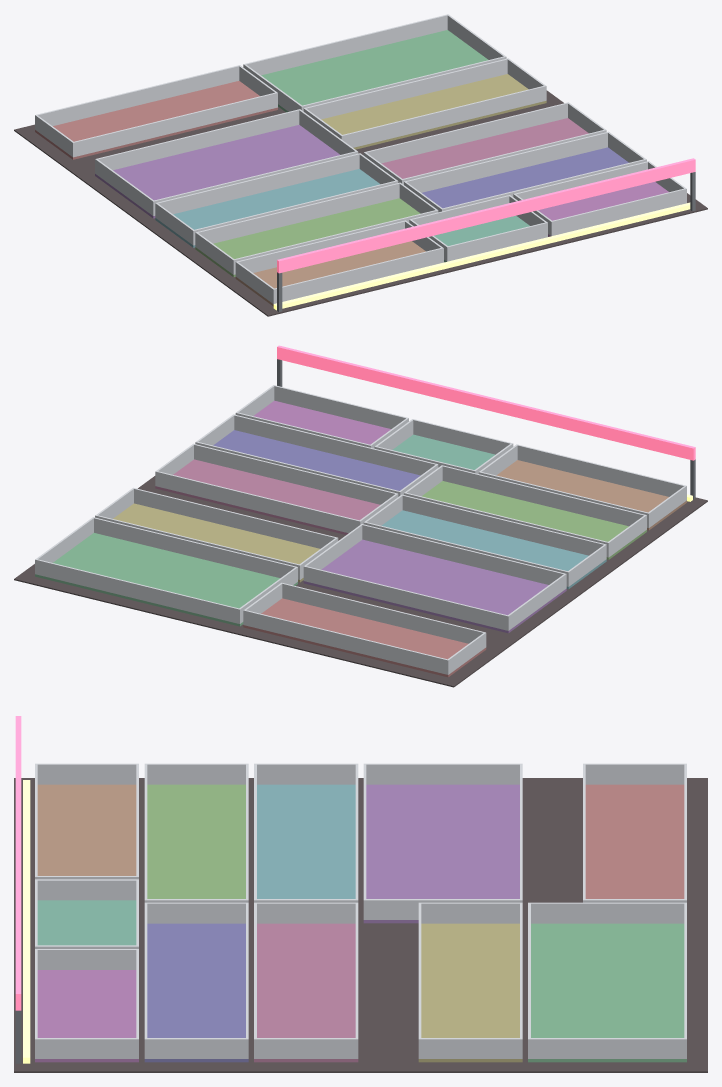
The model's file is hall-smelter.glb.
3 renders of one model, top to bottom at view 1: azimuth 30°, elevation 25°; view 2: azimuth 150°, elevation 25°; view 3: azimuth 270°, elevation 25°, orthographic. The views are drawn at different scales.
Visible parts, largest first — view 1: Smelter Operators; view 2: Smelter Operators; view 3: Smelter Operators.
Boxes of the visible parts, x1,y1,x2,y2 form: Smelter Operators: (14, 14, 707, 316); Smelter Operators: (14, 345, 707, 687); Smelter Operators: (14, 716, 707, 1072).
Bounding box in the file's own units: 38 × 4.3 × 38.
